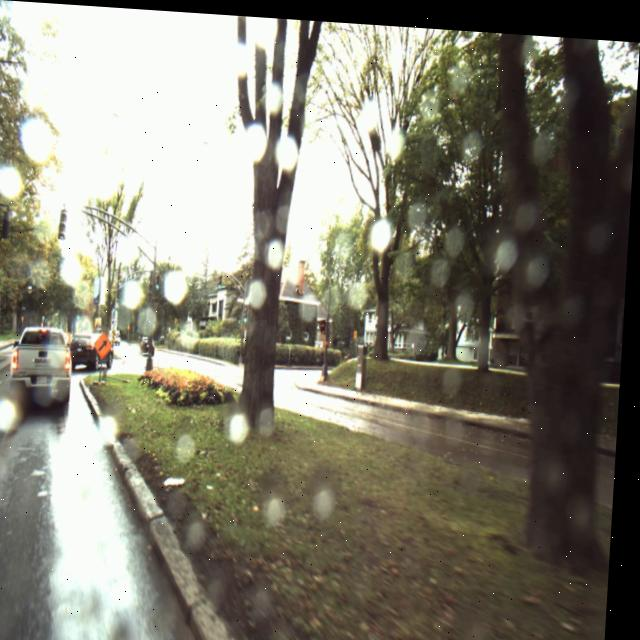car: (13, 324, 78, 404), (73, 331, 120, 371), (143, 332, 161, 354)
trafficLight: (61, 206, 71, 239)
trafficLight-Green: (157, 270, 165, 290), (246, 303, 253, 320), (221, 269, 227, 288)
